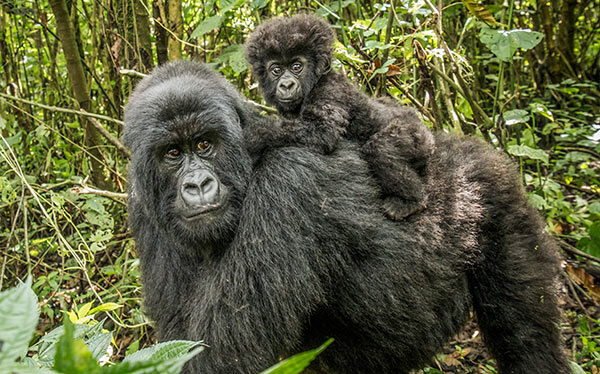Goriila: (97, 81, 543, 372), (254, 15, 458, 207)
